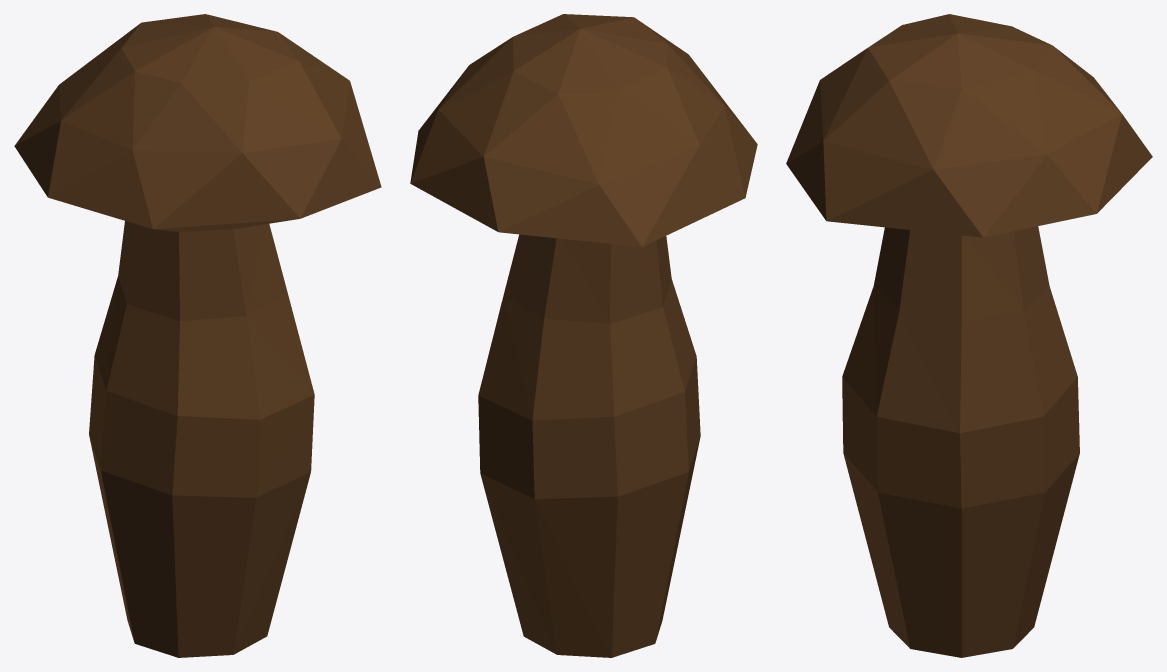
Rendered from SM_Mushroom_Summer_Bolete_Mature_A.fbx.
3 renders of one model, left to right at view 1: azimuth 30°, elevation 25°; view 2: azimuth 150°, elevation 25°; view 3: azimuth 270°, elevation 25°, orthographic.
Visible parts, largest first — view 1: mushroom-summer-bolete-mature-a; view 2: mushroom-summer-bolete-mature-a; view 3: mushroom-summer-bolete-mature-a.
Boxes of the visible parts, x1,y1,x2,y2 form: mushroom-summer-bolete-mature-a: [14, 14, 381, 657]; mushroom-summer-bolete-mature-a: [410, 14, 757, 657]; mushroom-summer-bolete-mature-a: [786, 14, 1152, 657].
Bounding box in the file's own units: 0.2312 × 0.4181 × 0.2312.
